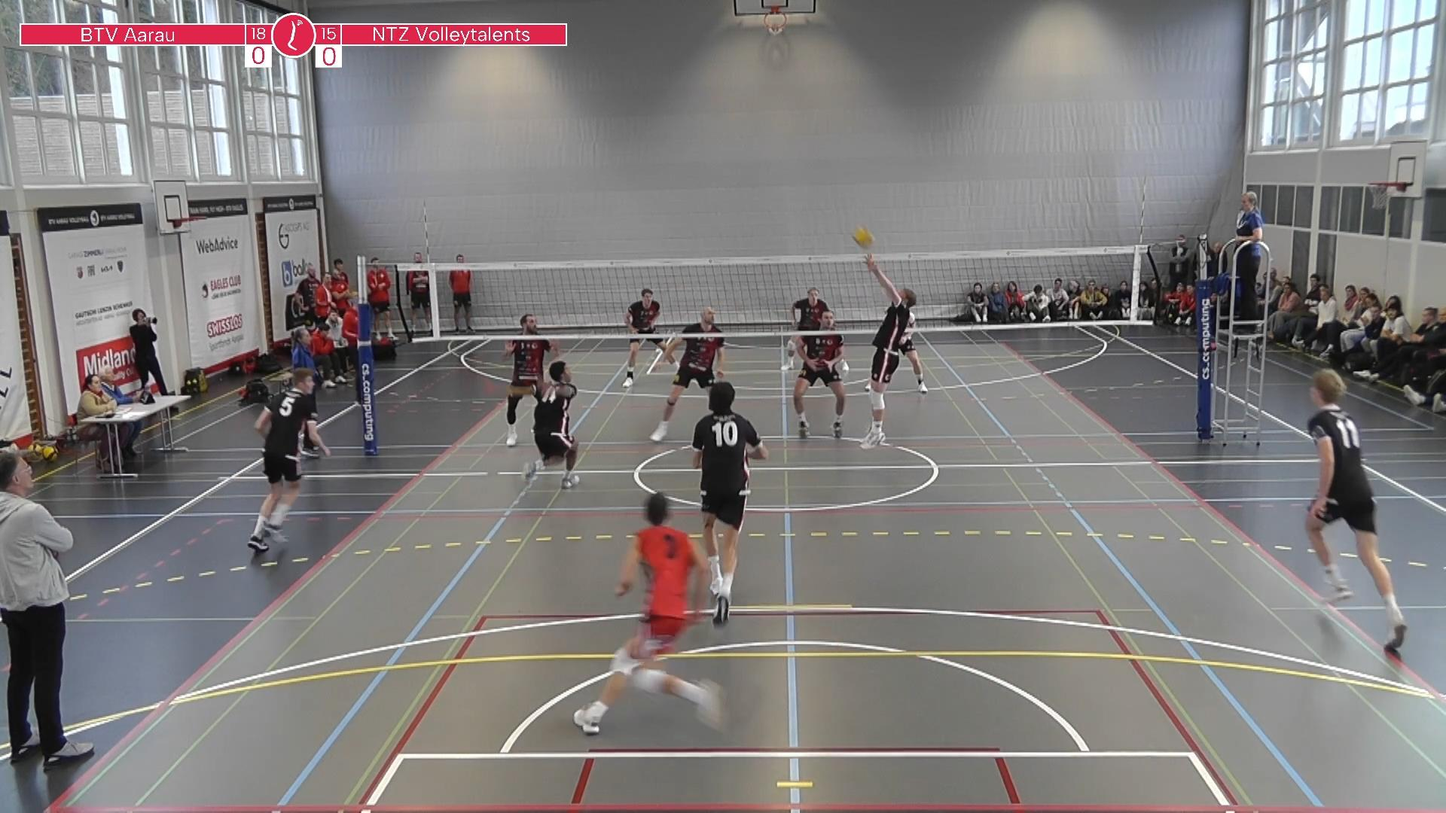alzata: (860, 255, 915, 454)
